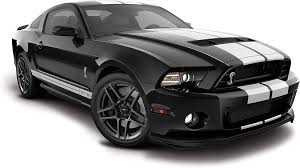car: (7, 1, 300, 148)
